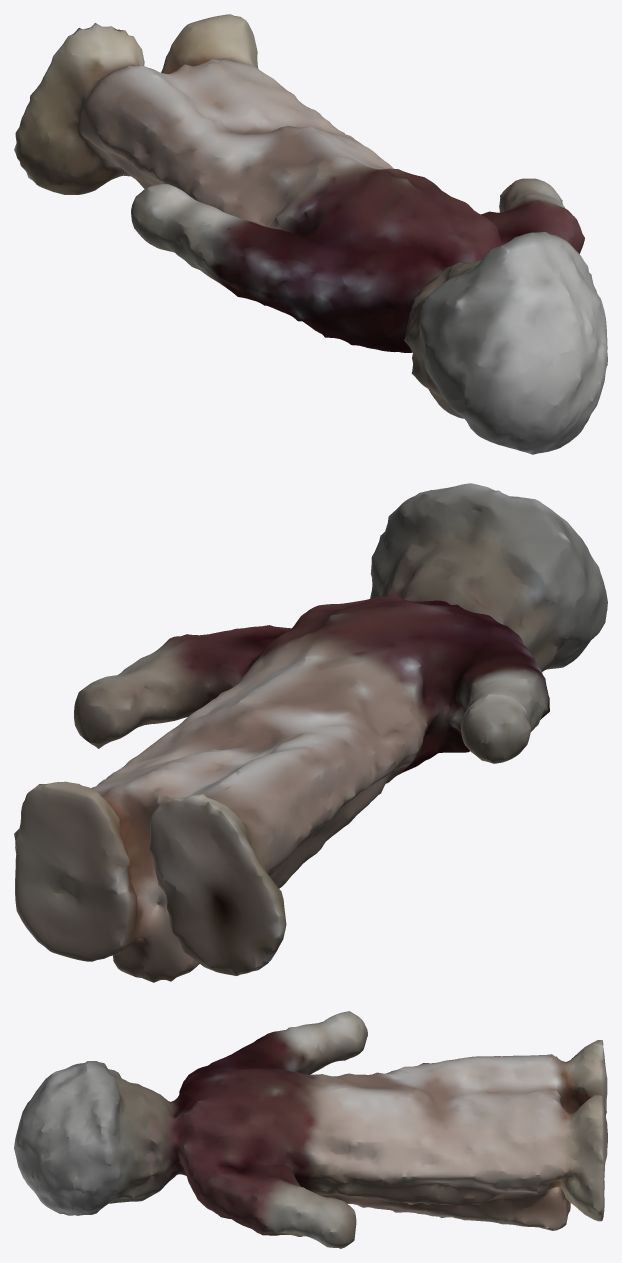
Rendered from grandmother.glb.
3 views of the same model, one above another, from view 1: azimuth 30°, elevation 25°; view 2: azimuth 150°, elevation 25°; view 3: azimuth 270°, elevation 25° (orthographic). The views are drawn at different scales.
Bounding box in the file's own units: 0.6019 × 0.2979 × 0.9952.
